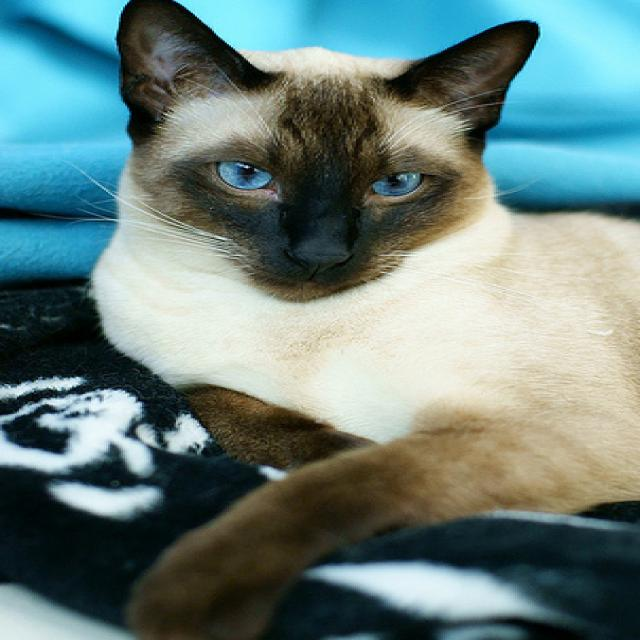Siamese: (82, 0, 640, 640)
